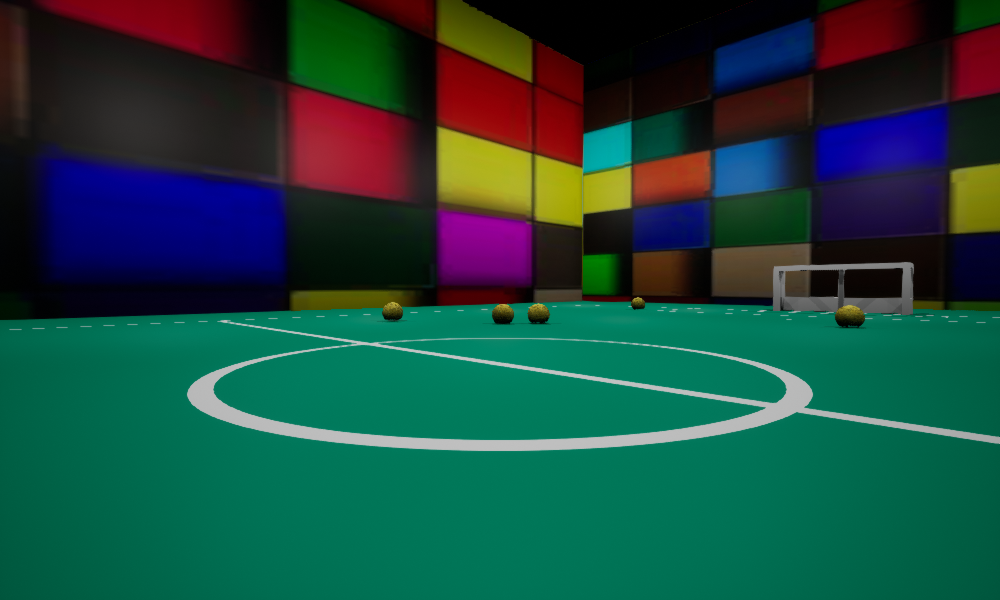b: (835, 305, 864, 327), (527, 303, 549, 323), (492, 304, 513, 323), (382, 302, 402, 319), (631, 297, 644, 309)
g: (773, 262, 913, 314)
